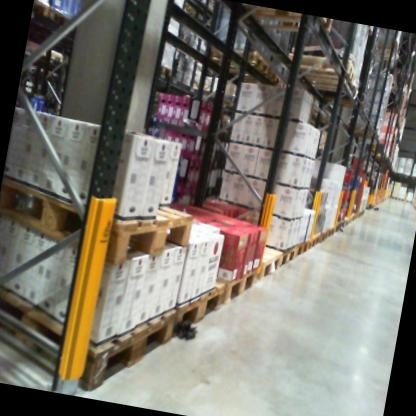pallet: (0, 262, 183, 409), (0, 159, 202, 268), (164, 271, 228, 344), (234, 4, 336, 44), (284, 43, 360, 92), (198, 40, 275, 84), (216, 257, 261, 312), (46, 3, 90, 39), (250, 239, 286, 280), (256, 237, 297, 268), (372, 37, 401, 64), (258, 62, 286, 85), (287, 234, 310, 262), (148, 61, 174, 80), (32, 0, 53, 21), (306, 229, 322, 252), (315, 224, 329, 244), (325, 225, 335, 240)
pallet_truck: (349, 145, 385, 214)
